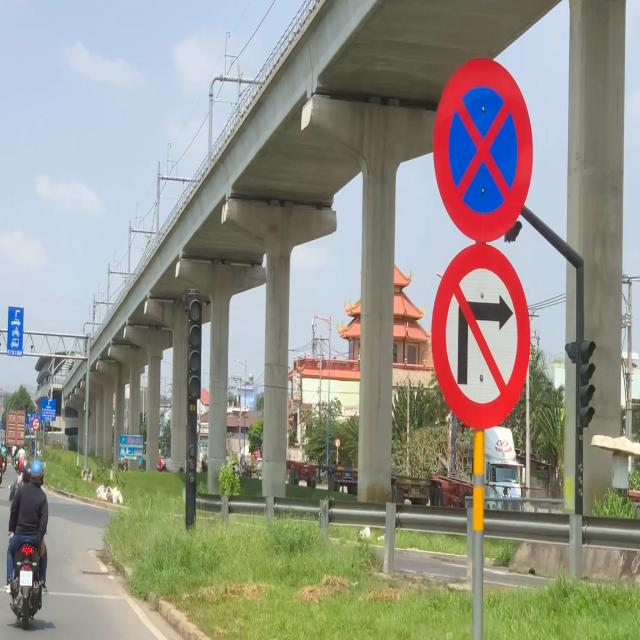Cam dung va do: (428, 52, 536, 246)
Cam re phai: (431, 246, 535, 428)
